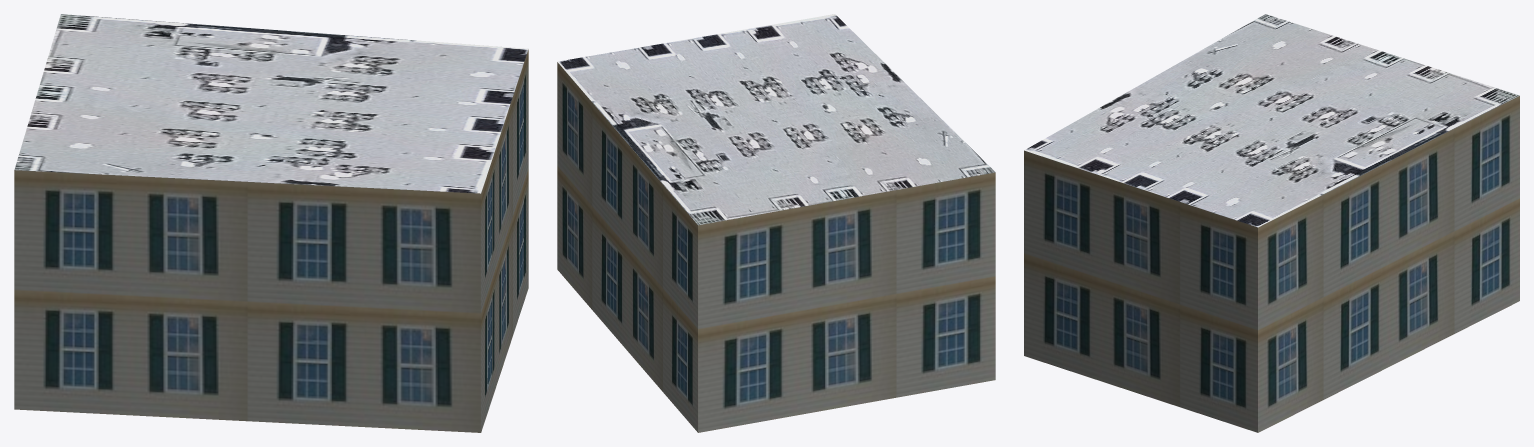
File: ResTex__1409.fbx
The picture shows the model from 3 angles, left to right: view 1: azimuth 30°, elevation 25°; view 2: azimuth 150°, elevation 25°; view 3: azimuth 270°, elevation 25°; orthographic projection. The views are drawn at different scales.
Parts seen in each view (by area): view 1: CityEngineMaterial_7_m, CityEngineMaterial_8_m; view 2: CityEngineMaterial_7_m, CityEngineMaterial_8_m; view 3: CityEngineMaterial_7_m, CityEngineMaterial_8_m.
Part boxes in pixels (x1,y1,x2,y2): CityEngineMaterial_7_m: (14,49,528,432); CityEngineMaterial_8_m: (14,14,528,193); CityEngineMaterial_7_m: (557,62,995,432); CityEngineMaterial_8_m: (557,14,995,225); CityEngineMaterial_7_m: (1024,96,1519,432); CityEngineMaterial_8_m: (1024,14,1519,227).
Bounding box in the file's own units: 13.37 × 6 × 13.13.
2 materials, 2 textured.
